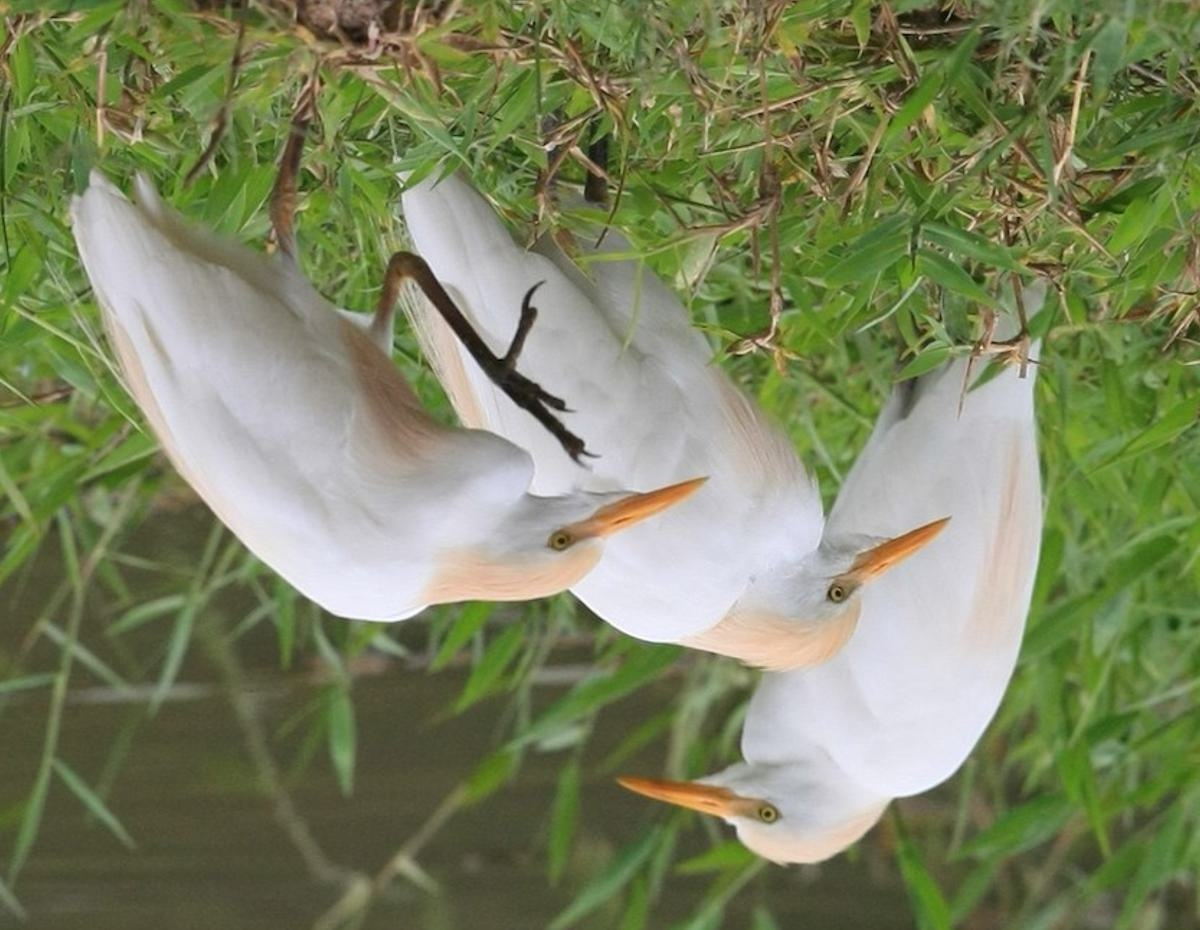egret: (63, 153, 708, 641), (435, 136, 955, 689), (610, 313, 1070, 872)
